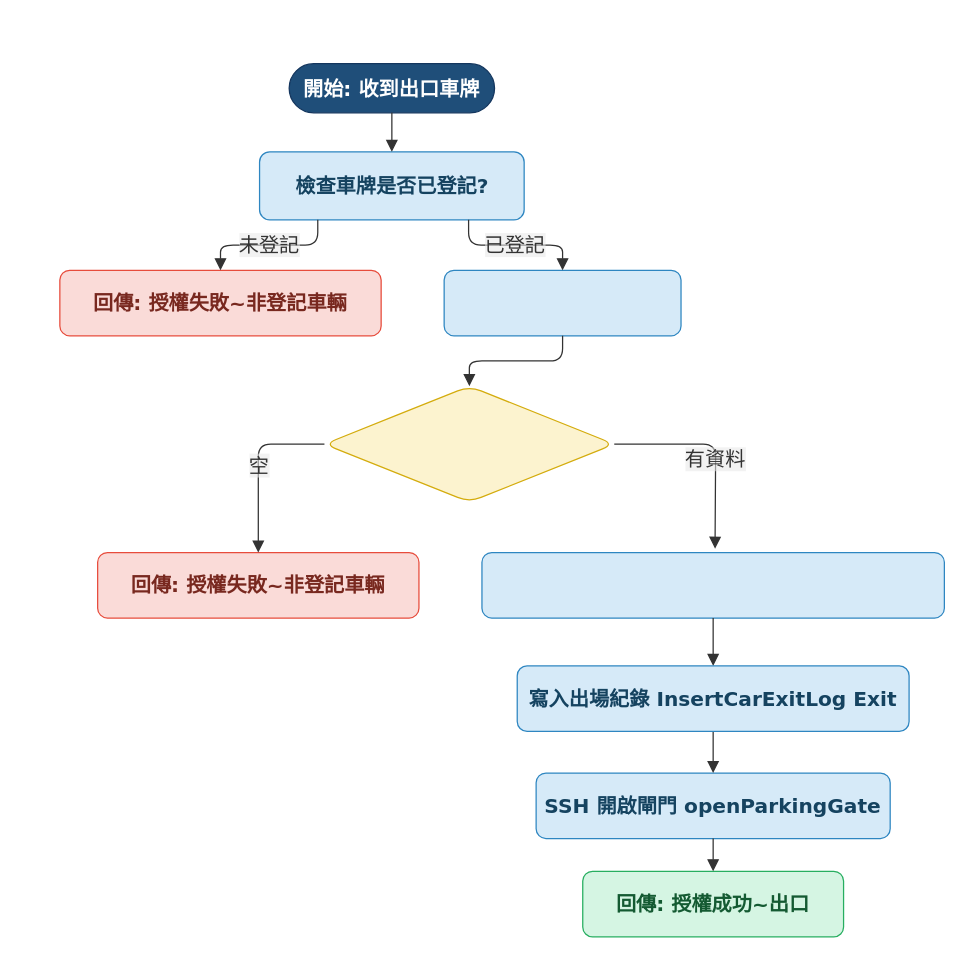
The diagram is 966 pixels wide and 959 high, and some of its shapes have lost their labels. Each missing label, with the centre of its shape:
"取得車牌登記資料" belongs at (562,302).
"將該車 occupied_available 清空設為已出場" belongs at (712,584).
"登記資料是否為空?" belongs at (468,443).
